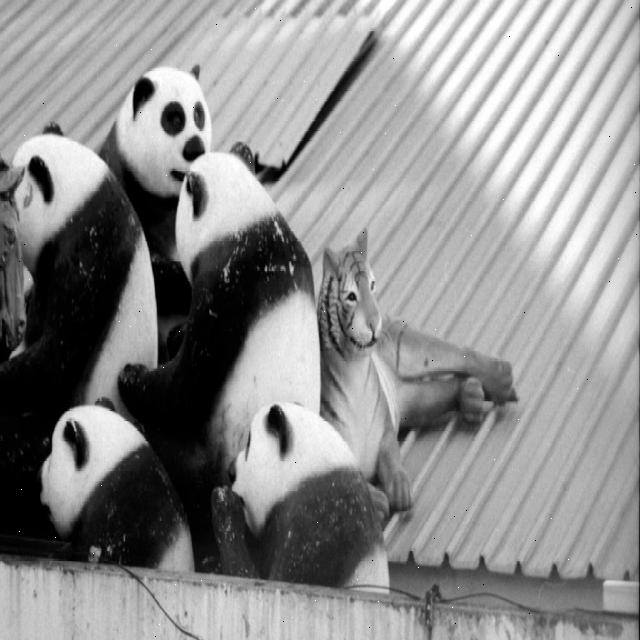panda: (116, 138, 321, 581), (0, 114, 162, 562), (99, 63, 214, 367), (227, 392, 388, 598), (36, 396, 197, 576)
